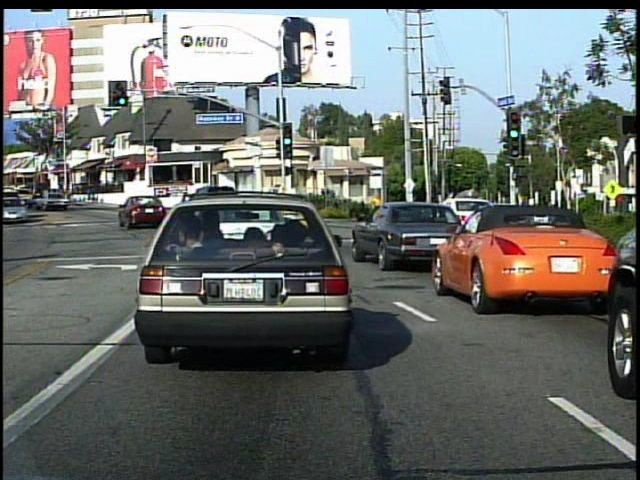person: (408, 189, 429, 234), (368, 190, 386, 228)
